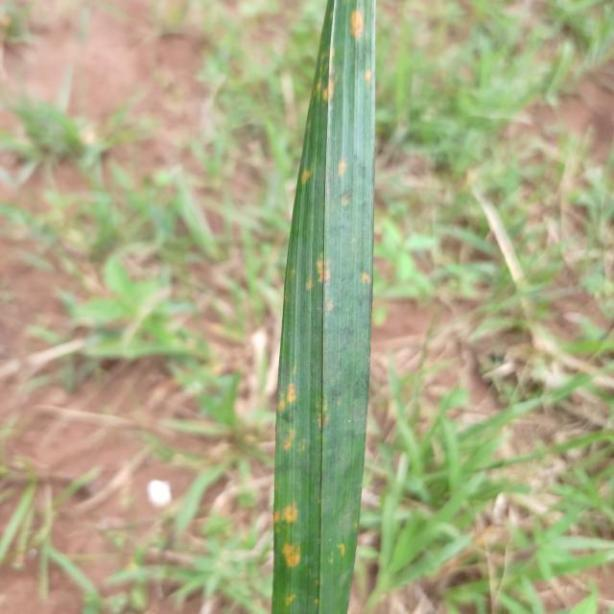Kalium: (269, 0, 374, 614)
